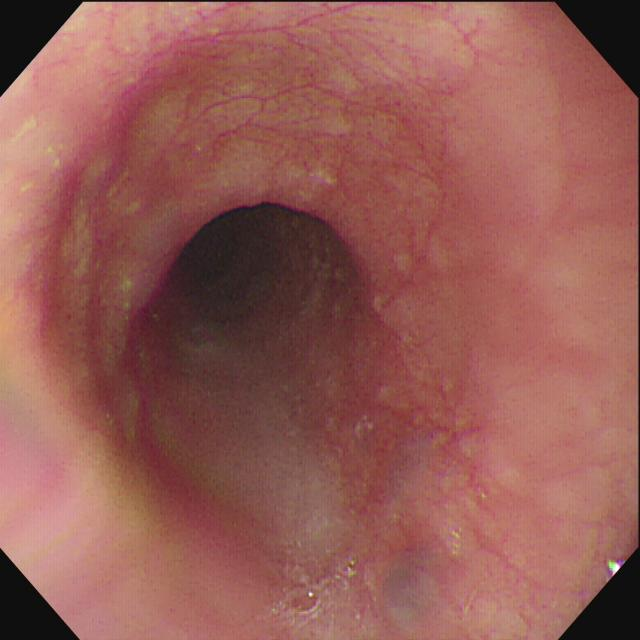A: (317, 338, 425, 463)
E: (143, 180, 369, 390)
T: (274, 486, 385, 636)
U: (605, 558, 628, 586)
